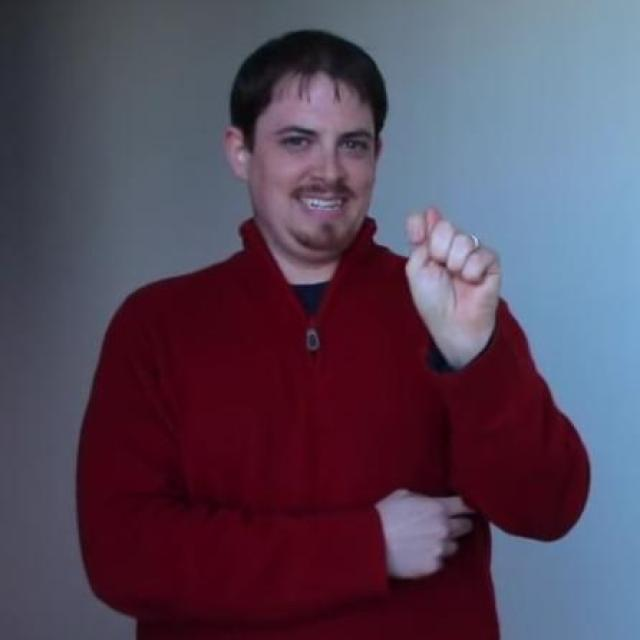T: (397, 204, 504, 343)
